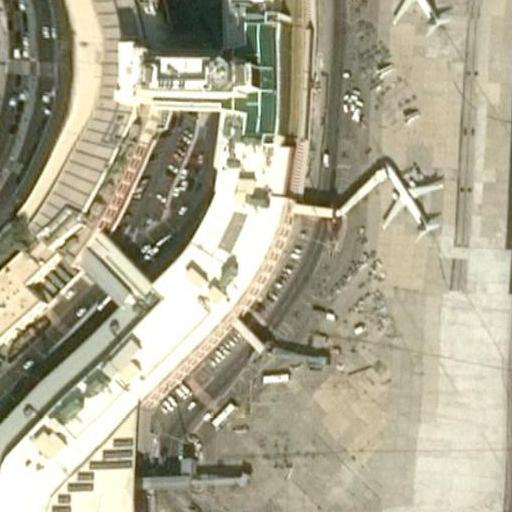Aircraft: (377, 160, 447, 242), (389, 0, 459, 38)
